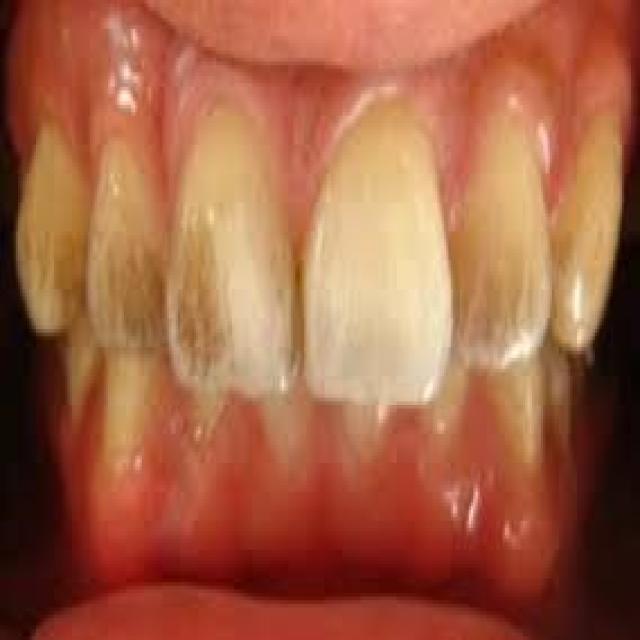Tooth Discoloration: (16, 179, 234, 389), (448, 110, 600, 364)
